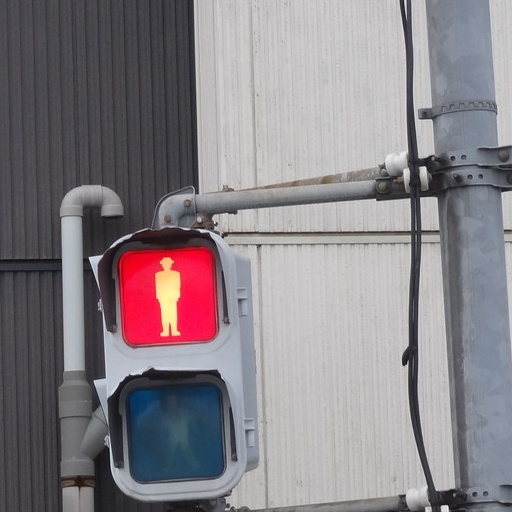Pedestrian_Signal_Red: (94, 213, 246, 501)
